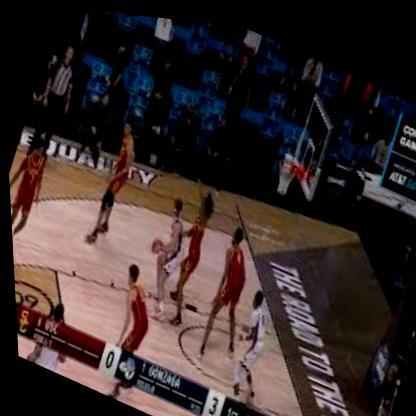basketball: (146, 232, 164, 255)
rim: (273, 146, 299, 172)
